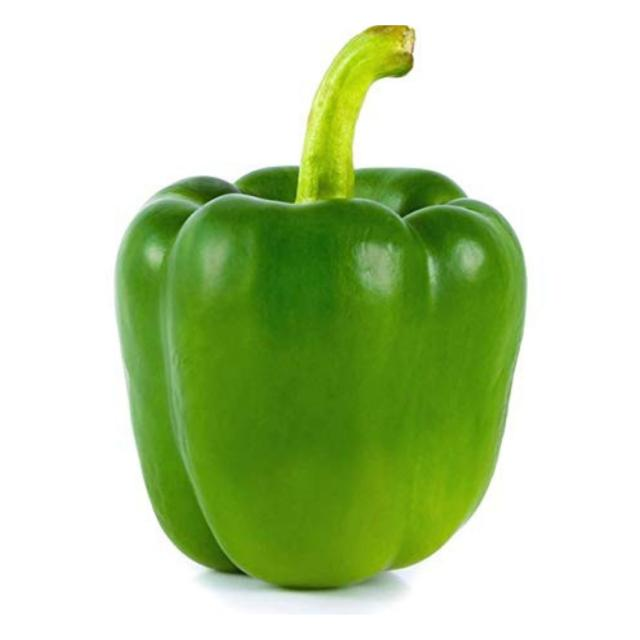Capsicum: (114, 25, 530, 592)
